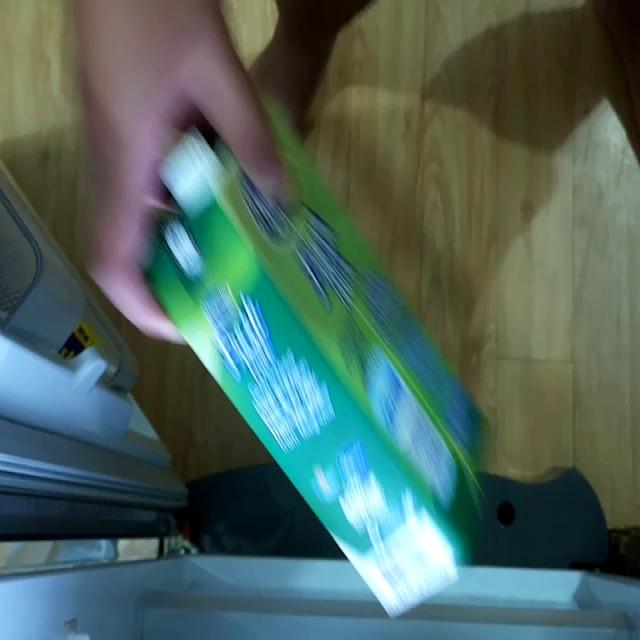milk: (134, 42, 502, 621)
